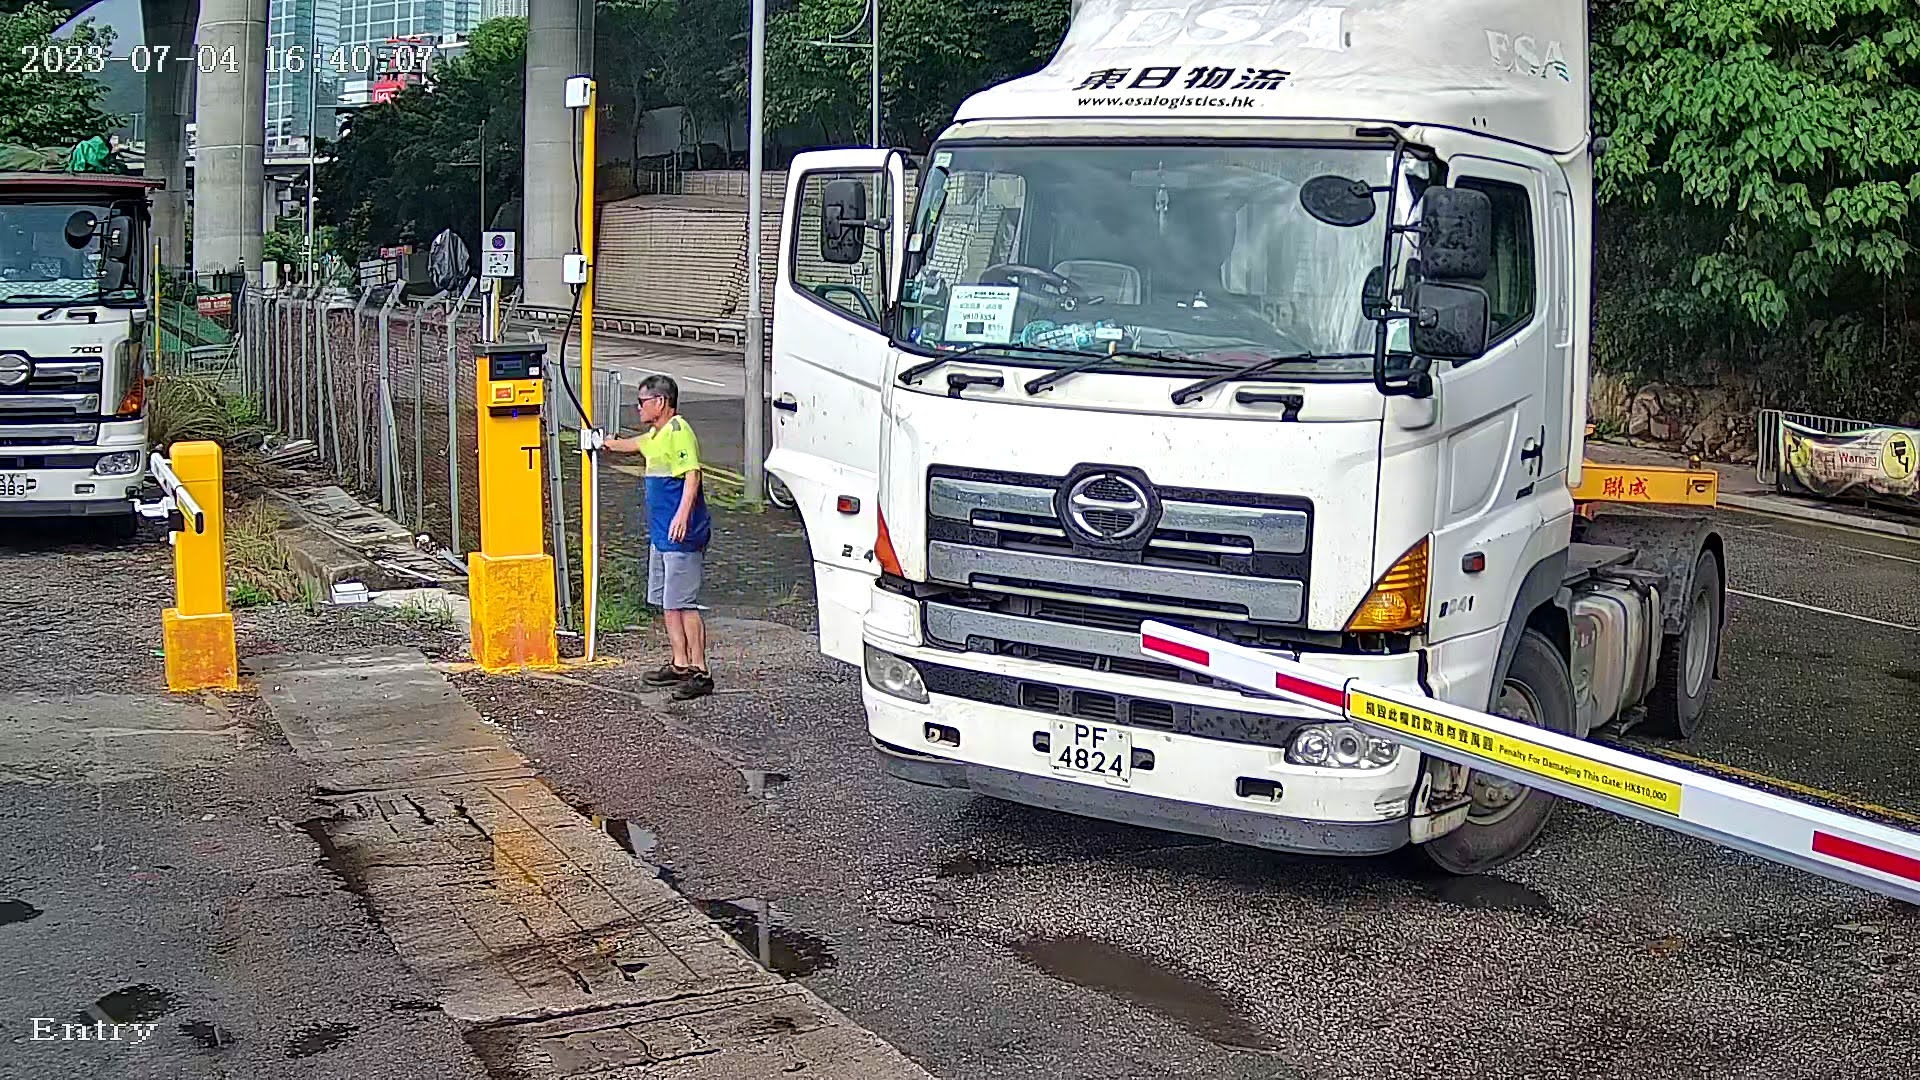truck: (712, 1, 1779, 887)
